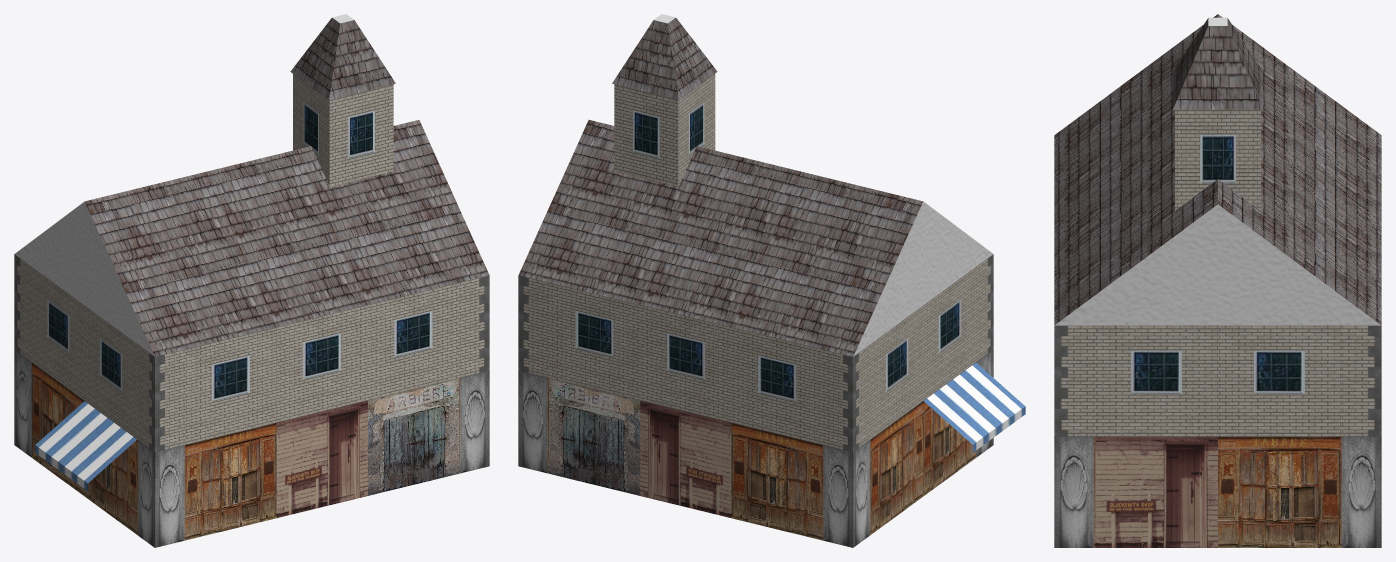
The model's file is House_011.dae.
3 renders of one model, left to right at view 1: azimuth 30°, elevation 25°; view 2: azimuth 150°, elevation 25°; view 3: azimuth 270°, elevation 25°, orthographic. The views are drawn at different scales.
Visible parts, largest first — view 1: House_011; view 2: House_011; view 3: House_011.
Part boxes in pixels (<box>): House_011: <box>14,14,489,547</box>; House_011: <box>518,14,1025,547</box>; House_011: <box>1054,14,1381,547</box>.
Bounding box in the file's own units: 101 × 64 × 104.
